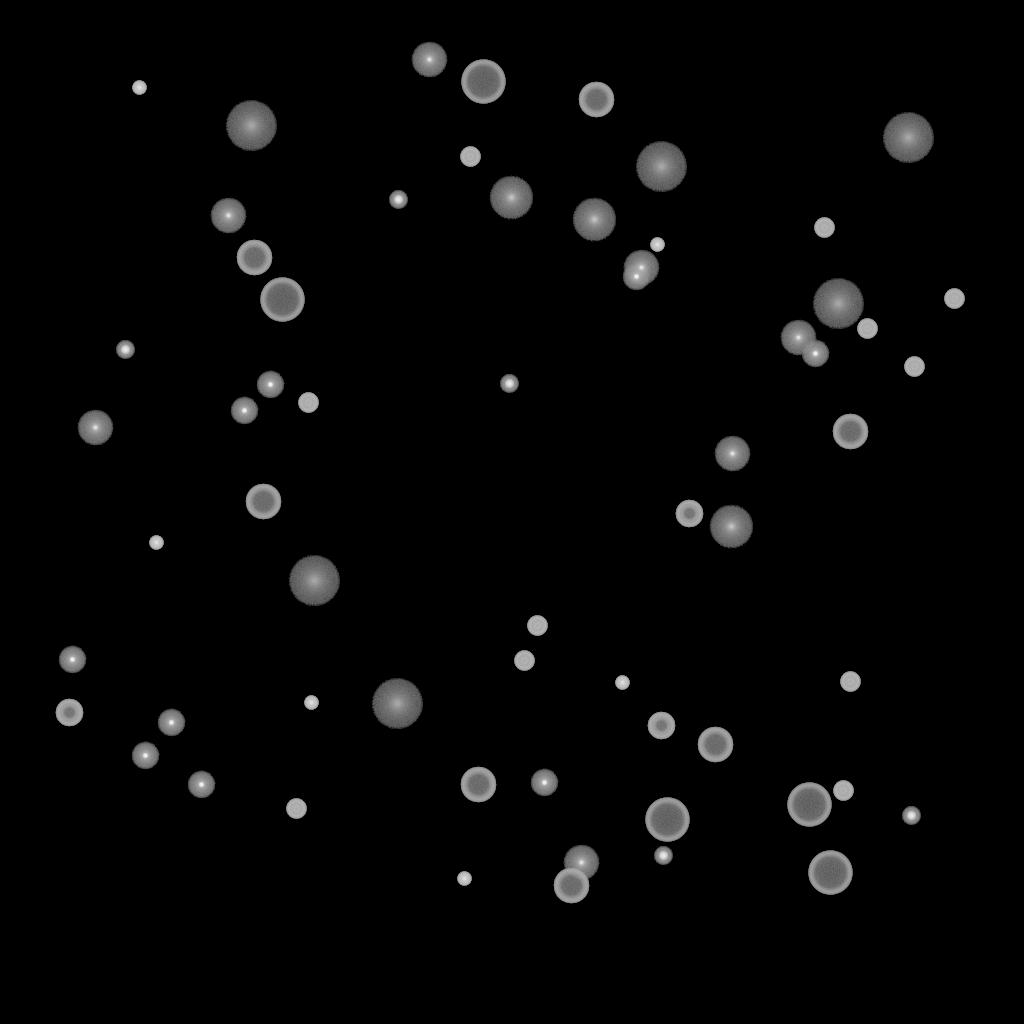depth:-10: (230, 397, 258, 425), (157, 709, 185, 737), (131, 742, 159, 770), (58, 646, 86, 674), (187, 771, 215, 799), (256, 371, 284, 399), (622, 263, 650, 291), (530, 769, 558, 797), (801, 340, 829, 368)
depth:-20: (500, 375, 518, 393), (389, 191, 407, 209), (116, 341, 134, 359), (654, 847, 672, 865), (902, 807, 920, 825)
depth:-30: (132, 81, 146, 95), (615, 676, 629, 690), (457, 872, 471, 886), (650, 238, 664, 252), (304, 696, 318, 710), (149, 536, 163, 550)
depth:-40: (840, 672, 860, 692), (514, 651, 534, 671), (904, 357, 924, 377), (944, 289, 964, 309), (286, 799, 306, 819), (857, 319, 877, 339), (814, 218, 834, 238), (298, 393, 318, 413), (460, 147, 480, 167), (833, 781, 853, 801), (527, 616, 547, 636)
depth:-50: (675, 500, 703, 528), (55, 699, 83, 727), (647, 712, 675, 740)
depth:-60: (578, 82, 614, 118), (553, 868, 589, 904), (832, 414, 868, 450), (697, 727, 733, 763), (236, 240, 272, 276), (245, 484, 281, 520), (460, 767, 496, 803)
depth:-70: (808, 851, 852, 895), (461, 60, 505, 104), (260, 278, 304, 322), (787, 783, 831, 827), (645, 798, 689, 842)
depth:0: (714, 436, 750, 472), (77, 410, 113, 446), (411, 42, 447, 78), (780, 320, 816, 356), (210, 198, 246, 234), (563, 845, 599, 881), (623, 250, 659, 286)
depth:10: (709, 505, 753, 549), (489, 176, 533, 220), (572, 198, 616, 242)
depth:20: (812, 279, 864, 329), (288, 556, 340, 606), (882, 113, 934, 163), (225, 101, 277, 151), (635, 142, 687, 192), (371, 679, 423, 729)
